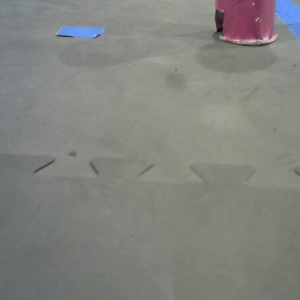middle: (33, 1, 107, 54)
